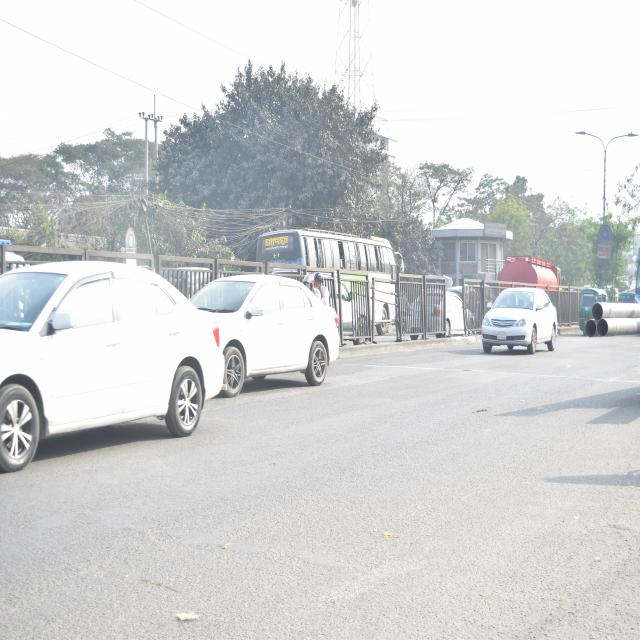bus: (278, 231, 400, 327)
car: (5, 262, 222, 475), (204, 273, 340, 399), (474, 284, 552, 362)
